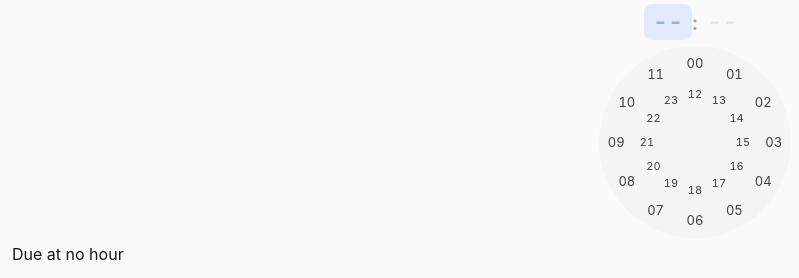
Test: the face with no hour set › keeps the minutes shut until there is an hour for them to hang on
Expected: the field named "Minutes" is disabled, left=698, top=4, right=746, bottom=40
Click the button "15": click(743, 142) left=731, top=130, right=755, bottom=154
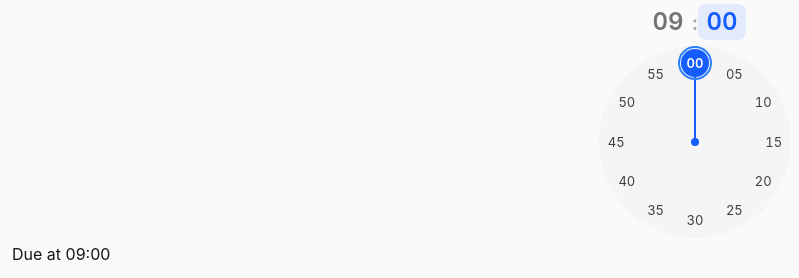
Result: the field named "Minutes" is enabled at left=698, top=4, right=746, bottom=40
